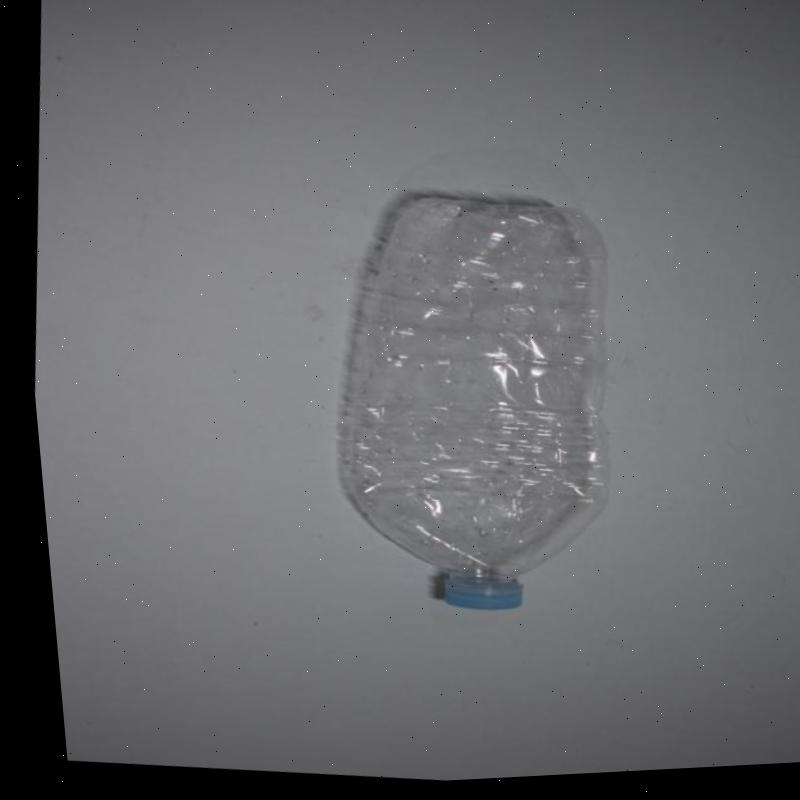botella: (300, 180, 639, 633)
